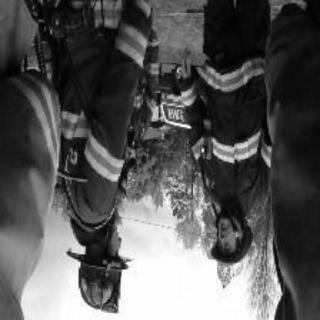other: (190, 120, 227, 166), (158, 72, 174, 106)
